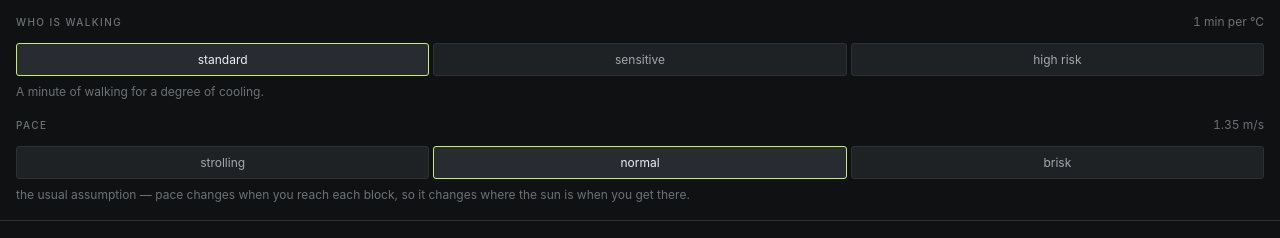
Test: HeatProfile › pace is selectable and reported in the units the model uses
Click the button "brisk": coordinates (1057, 162) 851,146 -> 1264,179
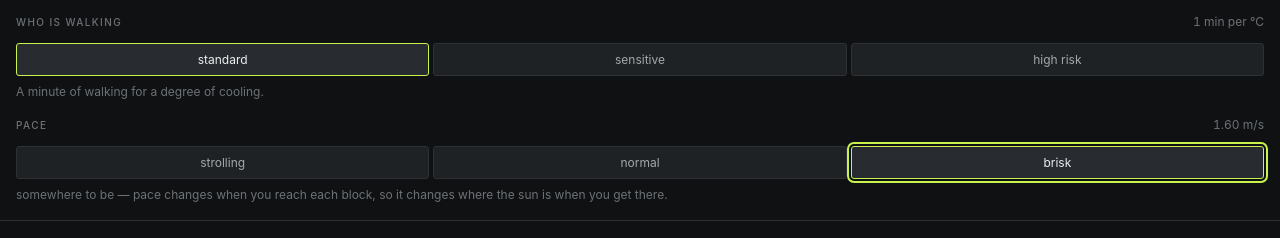
Now the text "1.60 m/s" is shown, box 1213,117 -> 1264,134
